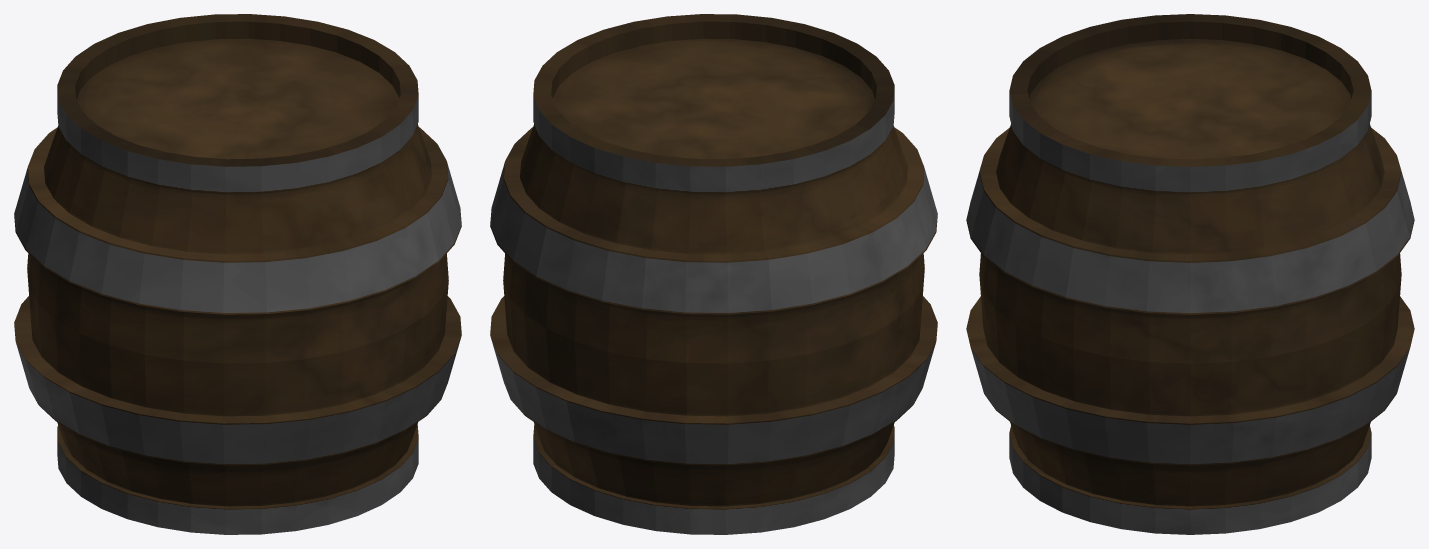
Rendered from barril.glb.
The picture shows the model from 3 angles, left to right: view 1: azimuth 30°, elevation 25°; view 2: azimuth 150°, elevation 25°; view 3: azimuth 270°, elevation 25°; orthographic projection.
Parts seen in each view (by area): view 1: Cylinder; view 2: Cylinder; view 3: Cylinder.
Part boxes in pixels (x1=…): Cylinder: x1=14, y1=14, x2=461, y2=534; Cylinder: x1=490, y1=14, x2=937, y2=534; Cylinder: x1=966, y1=14, x2=1414, y2=534.
Size of the model in its own units: 1.1 by 0.9954 by 1.1.
1 material, 1 textured.
